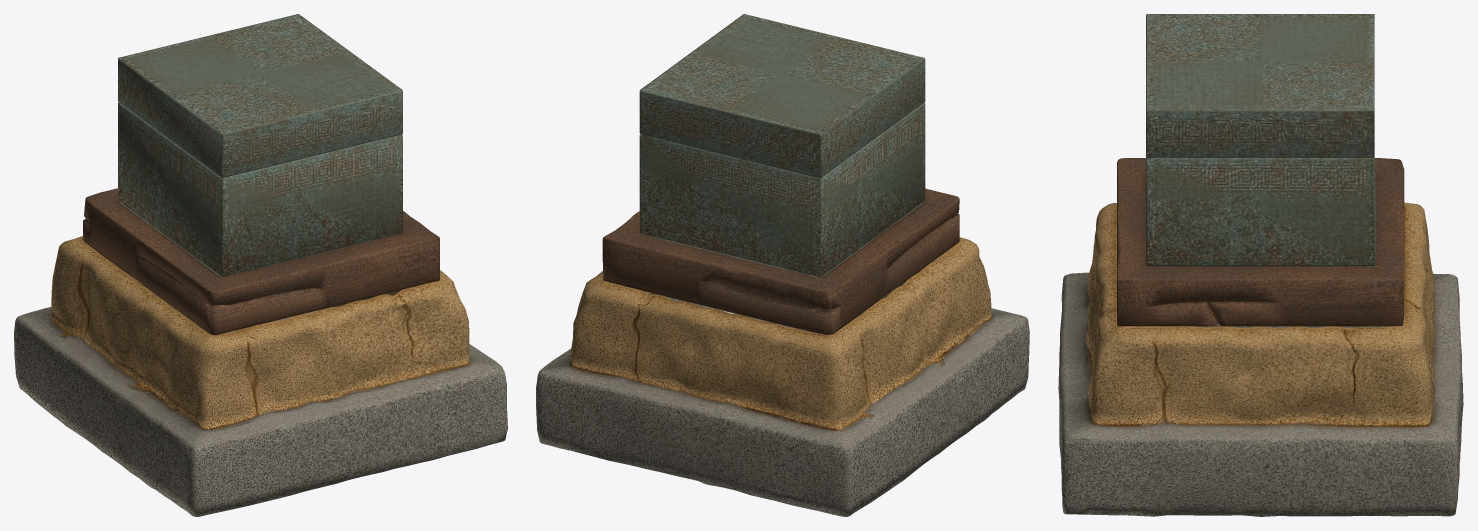
The model's file is tripo_convert_efbbcf85-d449-4b00-9556-0766adbd4417.fbx.
3 views of the same model, side by side, from view 1: azimuth 30°, elevation 25°; view 2: azimuth 150°, elevation 25°; view 3: azimuth 270°, elevation 25° (orthographic). The views are drawn at different scales.
Visible parts, largest first — view 1: tripo_node_efbbcf85; view 2: tripo_node_efbbcf85; view 3: tripo_node_efbbcf85.
Part boxes in pixels (x1=…): tripo_node_efbbcf85: x1=14, y1=14, x2=507, y2=516; tripo_node_efbbcf85: x1=536, y1=14, x2=1029, y2=516; tripo_node_efbbcf85: x1=1058, y1=14, x2=1463, y2=516.
Size of the model in its own units: 0.9902 by 0.998 by 0.9863.
Materials: 1 (1 with a texture image).
